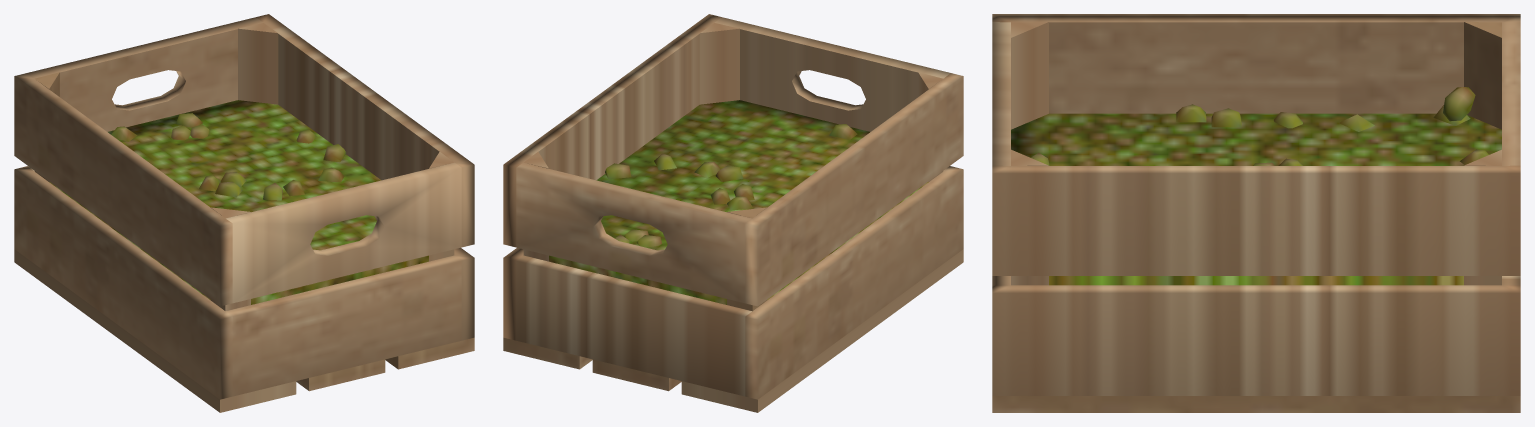
Rendered from objects_un_t03woodenbox02.gltf.
3 views of the same model, side by side, from view 1: azimuth 30°, elevation 25°; view 2: azimuth 150°, elevation 25°; view 3: azimuth 270°, elevation 25° (orthographic). The views are drawn at different scales.
Parts seen in each view (by area): view 1: lod0_objects_un_t03woodenbox02_mesh_shape:objects_un_t03wood (×2); view 2: lod0_objects_un_t03woodenbox02_mesh_shape:objects_un_t03wood (×2); view 3: lod0_objects_un_t03woodenbox02_mesh_shape:objects_un_t03wood (×2).
Part boxes in pixels (box(x1,y1,x2,y2)): lod0_objects_un_t03woodenbox02_mesh_shape:objects_un_t03wood (×2): box(14, 14, 474, 412); lod0_objects_un_t03woodenbox02_mesh_shape:objects_un_t03wood (×2): box(503, 14, 963, 412); lod0_objects_un_t03woodenbox02_mesh_shape:objects_un_t03wood (×2): box(992, 14, 1520, 412).
Size of what is drawn, in the model's own units: 0.5 by 0.35 by 0.7.
2 materials, 2 textured.
